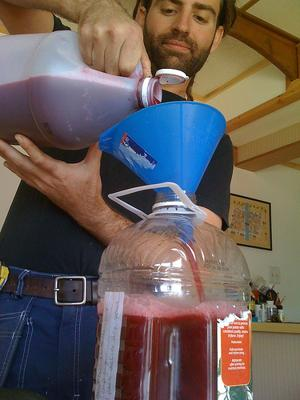person: (2, 3, 237, 400)
